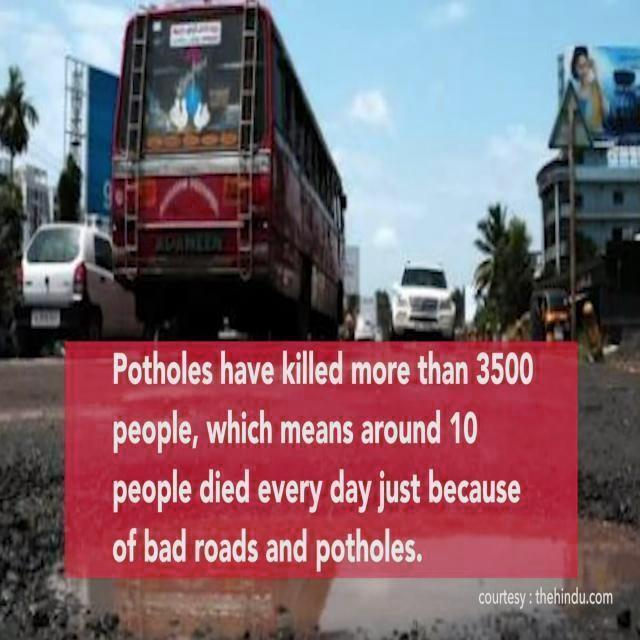pothole: (0, 431, 640, 640), (111, 521, 424, 574), (250, 481, 321, 516)
